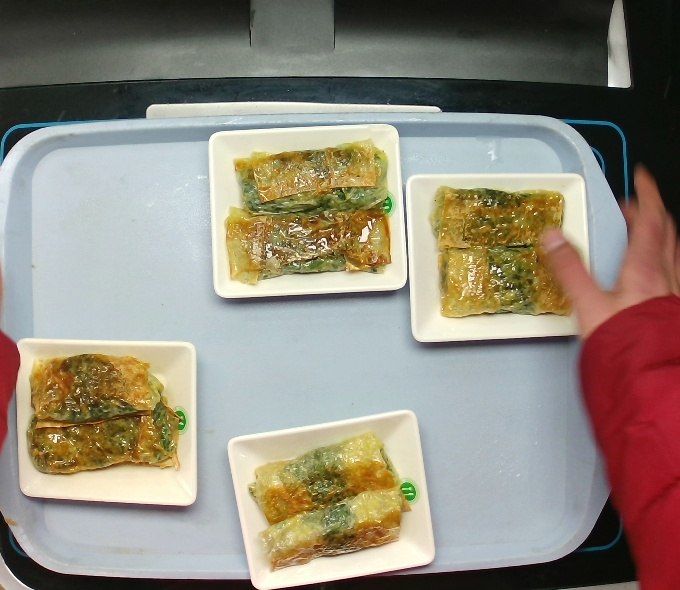wcq-CaiBao: (225, 137, 388, 280), (427, 194, 582, 319), (248, 444, 403, 569), (26, 351, 181, 476)
